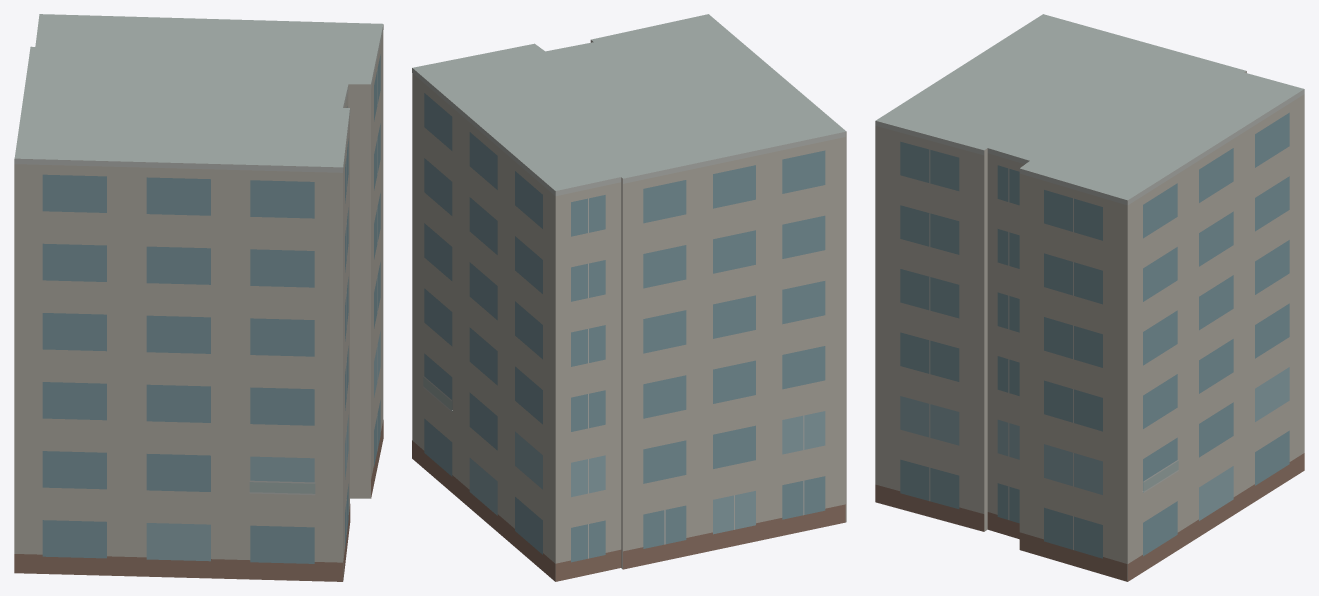
The model's file is survey-upis-32742457.glb.
The picture shows the model from 3 angles, left to right: view 1: azimuth 30°, elevation 25°; view 2: azimuth 150°, elevation 25°; view 3: azimuth 270°, elevation 25°; orthographic projection. The views are drawn at different scales.
Visible parts, largest first — view 1: survey-upis-32742457.tmp; view 2: survey-upis-32742457.tmp; view 3: survey-upis-32742457.tmp.
Part boxes in pixels (left/top/right/bottom): survey-upis-32742457.tmp: left=14, top=14, right=383, bottom=581; survey-upis-32742457.tmp: left=412, top=14, right=846, bottom=581; survey-upis-32742457.tmp: left=875, top=14, right=1304, bottom=581.
Bounding box in the file's own units: 19.18 × 18.3 × 18.66.
